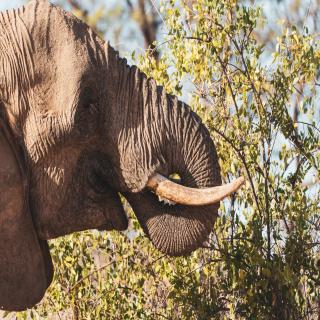Elephant: (0, 0, 245, 314)
